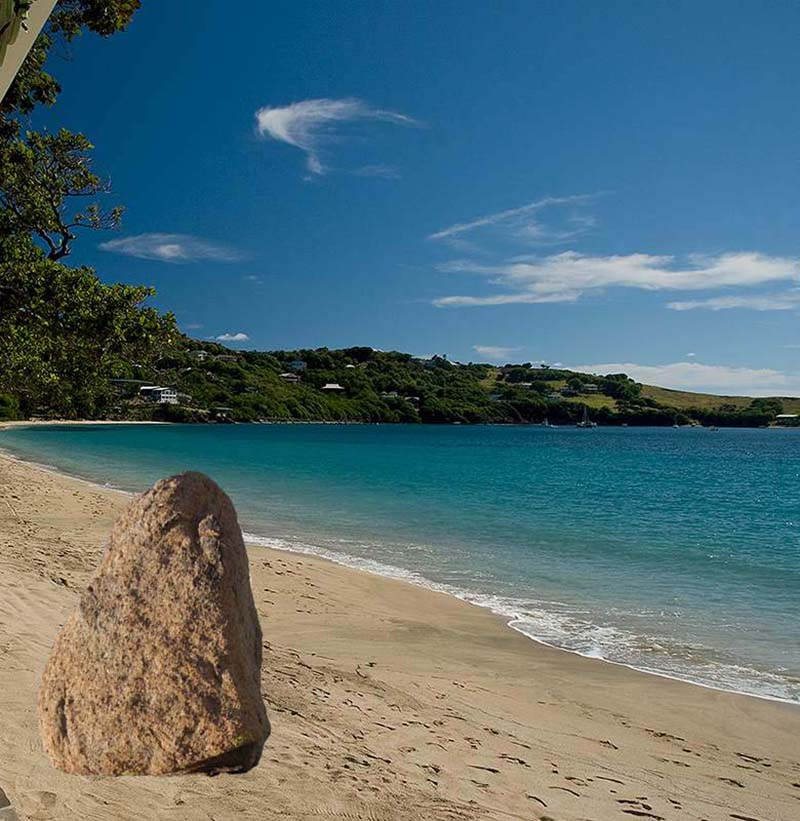Rocks: (37, 466, 274, 796)
